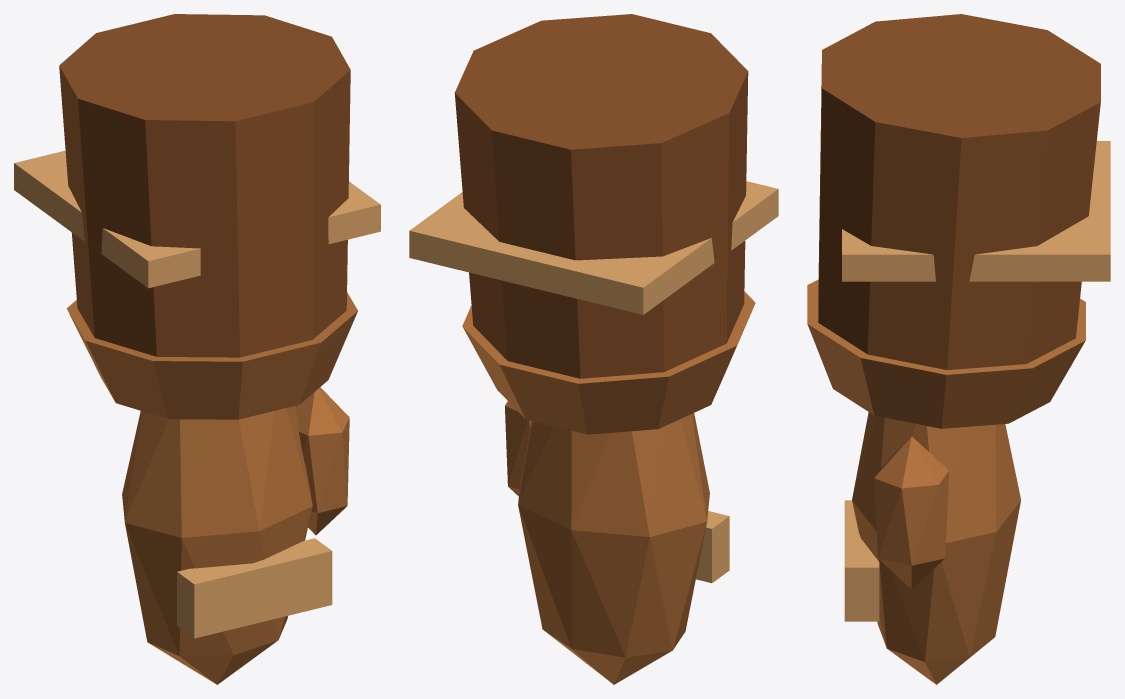
The model's file is gear_bronze_gauntlets_arm_r.glb.
The picture shows the model from 3 angles, left to right: view 1: azimuth 30°, elevation 25°; view 2: azimuth 150°, elevation 25°; view 3: azimuth 270°, elevation 25°; orthographic projection.
Visible parts, largest first — view 1: gear_bronze_gauntlets_arm_r; view 2: gear_bronze_gauntlets_arm_r; view 3: gear_bronze_gauntlets_arm_r.
Boxes of the visible parts, box(x1,y1,x2,y2) form: gear_bronze_gauntlets_arm_r: box(14, 14, 380, 684); gear_bronze_gauntlets_arm_r: box(409, 14, 778, 684); gear_bronze_gauntlets_arm_r: box(807, 14, 1110, 684).
Size of the model in its own units: 0.118 by 0.2731 by 0.122.
